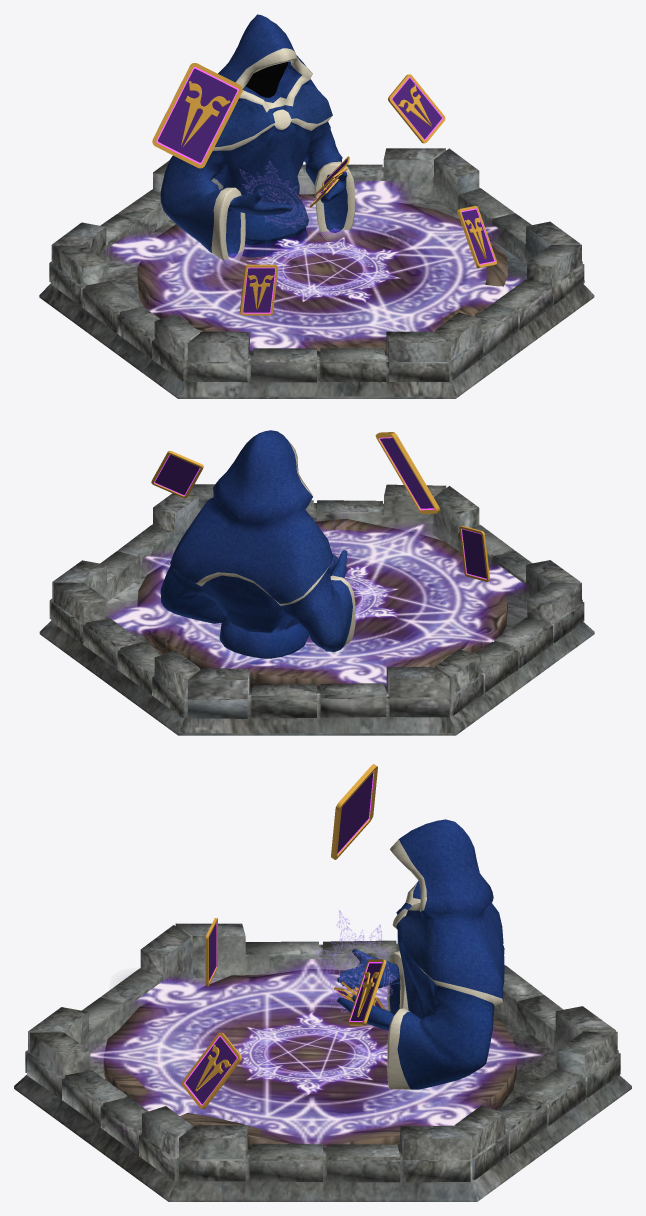
Rendered from quest_tile_high.glb.
The picture shows the model from 3 angles, top to bottom: view 1: azimuth 30°, elevation 25°; view 2: azimuth 150°, elevation 25°; view 3: azimuth 270°, elevation 25°; orthographic projection. The views are drawn at different scales.
Visible parts, largest first — view 1: Plane.002, body; view 2: Plane.002, body; view 3: Plane.002, body.
Boxes of the visible parts, x1,y1,x2,y2 form: Plane.002: (39, 63, 594, 398); body: (160, 14, 355, 266); Plane.002: (39, 432, 594, 735); body: (160, 430, 355, 666); Plane.002: (14, 764, 631, 1201); body: (337, 819, 504, 1095).
Size of the model in its own units: 1.73 by 0.9642 by 2.
Materials: 8 (4 with a texture image).
